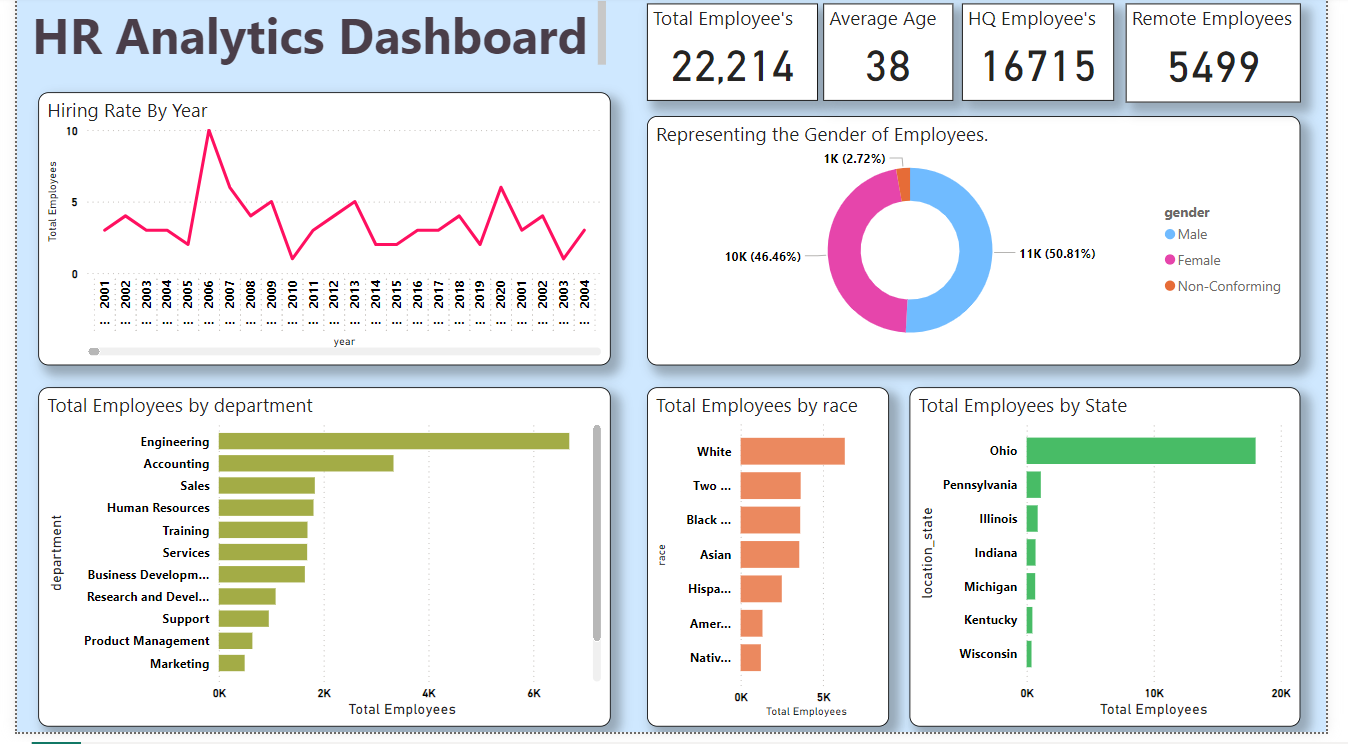

The page's visual inventory and layout, read from the dashboard file:
{"tool":"powerbi","page":{"name":"Page 1","canvas":[1280,720],"ordinal":0},"visuals":[{"type":"card","title":"Total Employee''s","fields":{"Values":["CountNonNull(project_hr_analytics HR.id)"]},"box":[616.3,7.3,167.5,95.4],"z":0},{"type":"barChart","title":"Total Employees by State","fields":{"Y":["project_hr_analytics HR.Total Employees"],"Category":["project_hr_analytics HR.location_state"]},"box":[872.9,382.3,382.3,331.8],"z":1000},{"type":"barChart","fields":{"Category":["project_hr_analytics HR.department"],"Y":["project_hr_analytics HR.Total Employees"]},"box":[20.2,382.3,559.8,331.8],"z":2000},{"type":"lineChart","title":"Hiring Rate By Year","fields":{"Category":["project_hr_analytics HR.hire_date","project_hr_analytics HR.year"],"Y":["project_hr_analytics HR.Total Employees"]},"box":[20.2,93.8,559.8,266.9],"z":3000},{"type":"donutChart","title":"Representing the Gender of Employees.","fields":{"Category":["project_hr_analytics HR.gender"],"Y":["project_hr_analytics HR.Total Employees"]},"box":[616.1,116.9,639.1,243.8],"z":4000},{"type":"barChart","fields":{"Category":["project_hr_analytics HR.race"],"Y":["project_hr_analytics HR.Total Employees"]},"box":[616.1,382.3,236.6,331.8],"z":5000},{"type":"card","title":"Average Age","fields":{"Values":["Avg(project_hr_analytics HR.Age)"]},"box":[788.7,7.3,127.2,95.4],"z":6000},{"type":"card","title":"HQ Employee''s","fields":{"Values":["project_hr_analytics HR.HQ Employees"]},"box":[924.5,7.3,149.2,95.4],"z":7000},{"type":"card","title":"Remote Employees","fields":{"Values":["project_hr_analytics HR.Remote Employees"]},"box":[1084.7,7.3,171.2,96.6],"z":8000},{"type":"textbox","box":[9.8,0,571.1,73.4],"z":8001}]}

Visuals, with their boxes in screenshot pixels (x1, y1, x2, y2), scaled from the page's 1280x720 canvas onto the 1348x744 screenshot:
"Total Employee''s" card: {"x1": 649, "y1": 8, "x2": 825, "y2": 106}
"Total Employees by State" barChart: {"x1": 919, "y1": 395, "x2": 1322, "y2": 738}
barChart - project_hr_analytics HR.department x project_hr_analytics HR.Total Employees: {"x1": 21, "y1": 395, "x2": 611, "y2": 738}
"Hiring Rate By Year" lineChart: {"x1": 21, "y1": 97, "x2": 611, "y2": 373}
"Representing the Gender of Employees." donutChart: {"x1": 649, "y1": 121, "x2": 1322, "y2": 373}
barChart - project_hr_analytics HR.race x project_hr_analytics HR.Total Employees: {"x1": 649, "y1": 395, "x2": 898, "y2": 738}
"Average Age" card: {"x1": 831, "y1": 8, "x2": 965, "y2": 106}
"HQ Employee''s" card: {"x1": 974, "y1": 8, "x2": 1131, "y2": 106}
"Remote Employees" card: {"x1": 1142, "y1": 8, "x2": 1323, "y2": 107}
textbox: {"x1": 10, "y1": 0, "x2": 612, "y2": 76}
